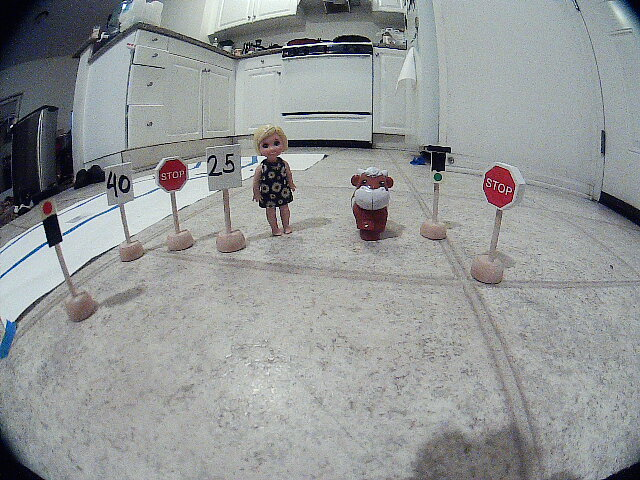Cow: (333, 159, 411, 263)
Green Traffic Light: (423, 127, 450, 193)
Person: (248, 116, 311, 239)
Red Traffic Light: (24, 182, 74, 247)
Speed Limit 25: (199, 142, 250, 197)
Speed Limit 40: (99, 159, 146, 200)
Stop Sign: (472, 157, 536, 219), (151, 150, 199, 201)
